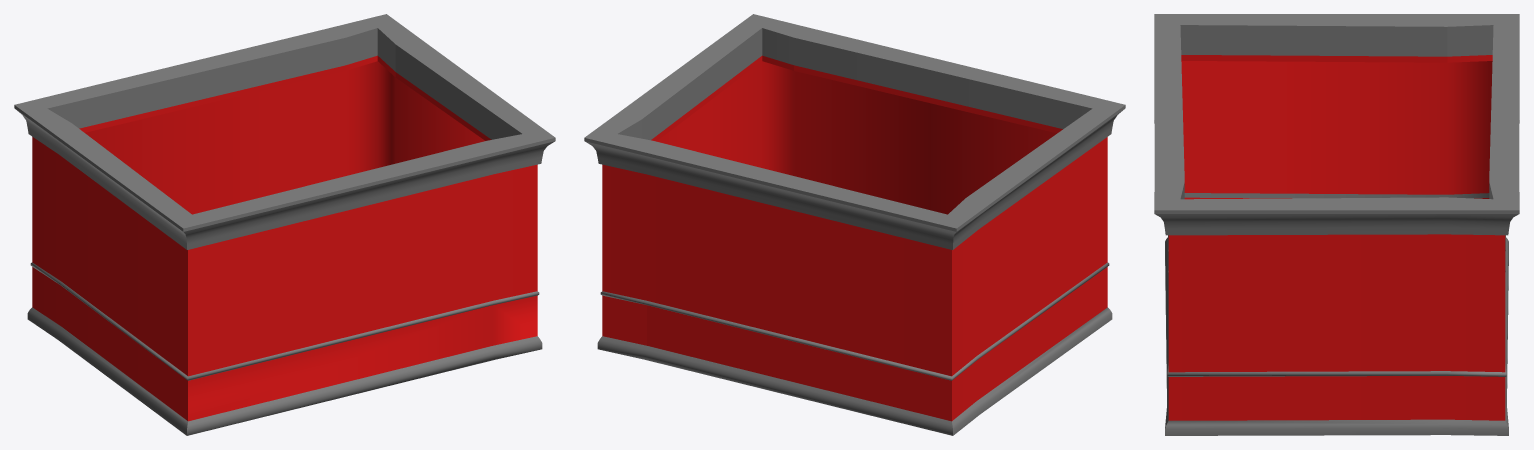
Rendered from Building2_Base.fbx.
3 views of the same model, side by side, from view 1: azimuth 30°, elevation 25°; view 2: azimuth 150°, elevation 25°; view 3: azimuth 270°, elevation 25° (orthographic). The views are drawn at different scales.
Visible parts, largest first — view 1: Building2_Base; view 2: Building2_Base; view 3: Building2_Base.
Boxes of the visible parts, box(x1,y1,x2,y2) form: Building2_Base: box(14, 14, 555, 435); Building2_Base: box(584, 14, 1125, 435); Building2_Base: box(1154, 14, 1519, 435).
Size of the model in its own units: 216 by 118 by 170.
